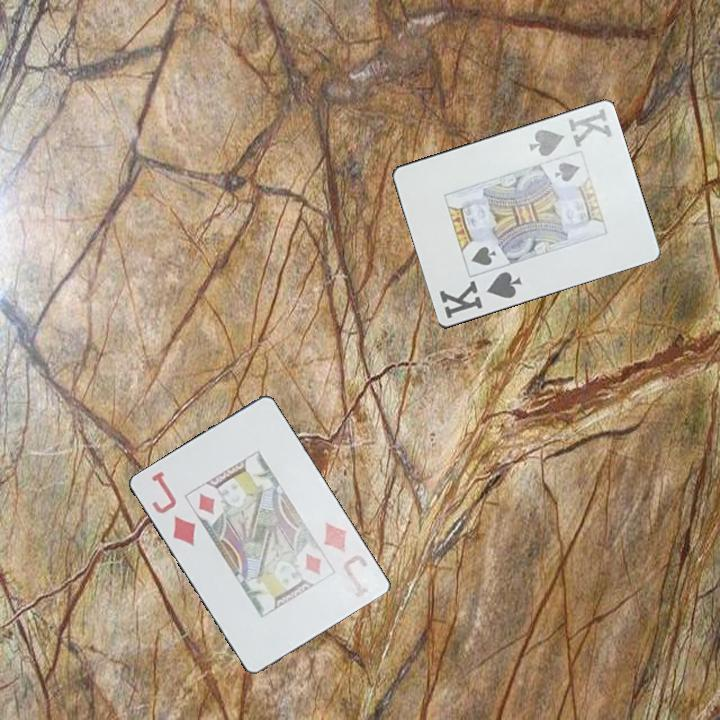Jd: (321, 519, 375, 601), (148, 467, 199, 549)
Ks: (525, 105, 615, 160), (435, 268, 525, 322)
